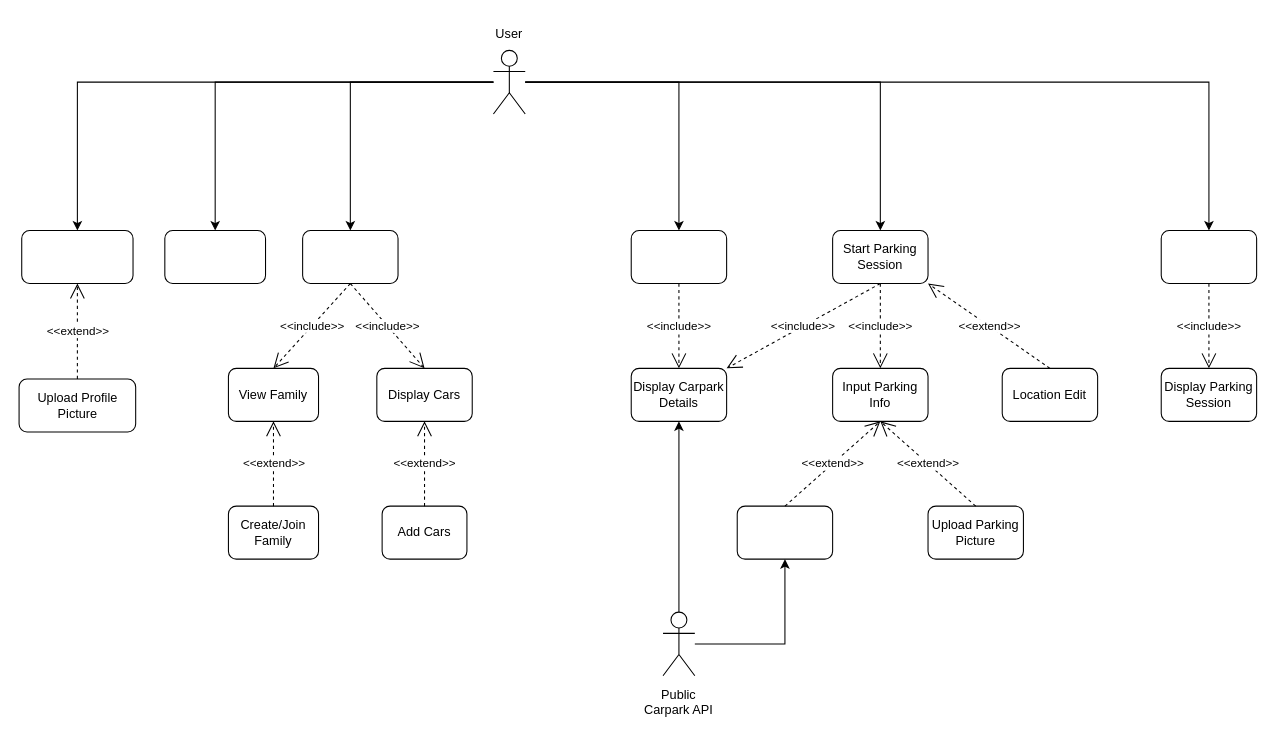
Some shapes in this 1275 by 736 pixel diagram are drawn without their labels. The shapes that lost their labels are listed below. From the top down, each one's centre as x and y in pixels, then its label:
At point (77, 256): "User Registration".
At point (215, 256): "User Login".
At point (350, 256): "Edit Profile Page".
At point (678, 256): "View Map And Nearby Carparks".
At point (1208, 256): "Display Parking Page".
At point (784, 532): "Input Rate Threshold".
